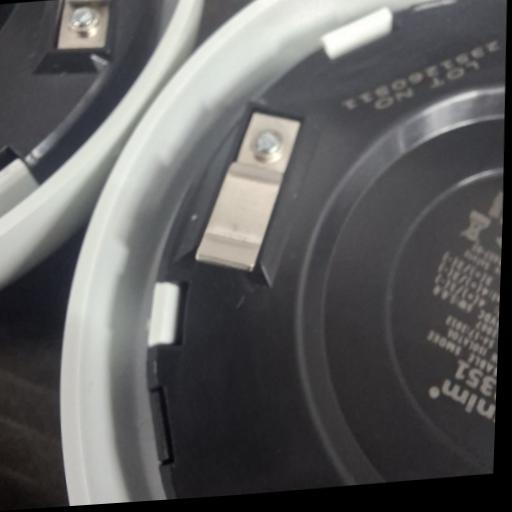yaysiz: (190, 103, 305, 280)
